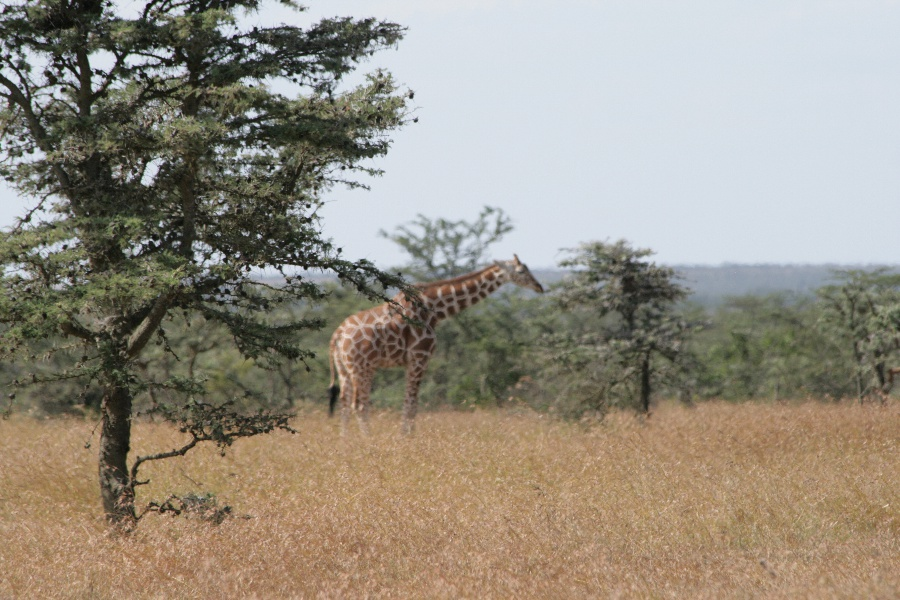giraffe: (316, 242, 559, 451)
